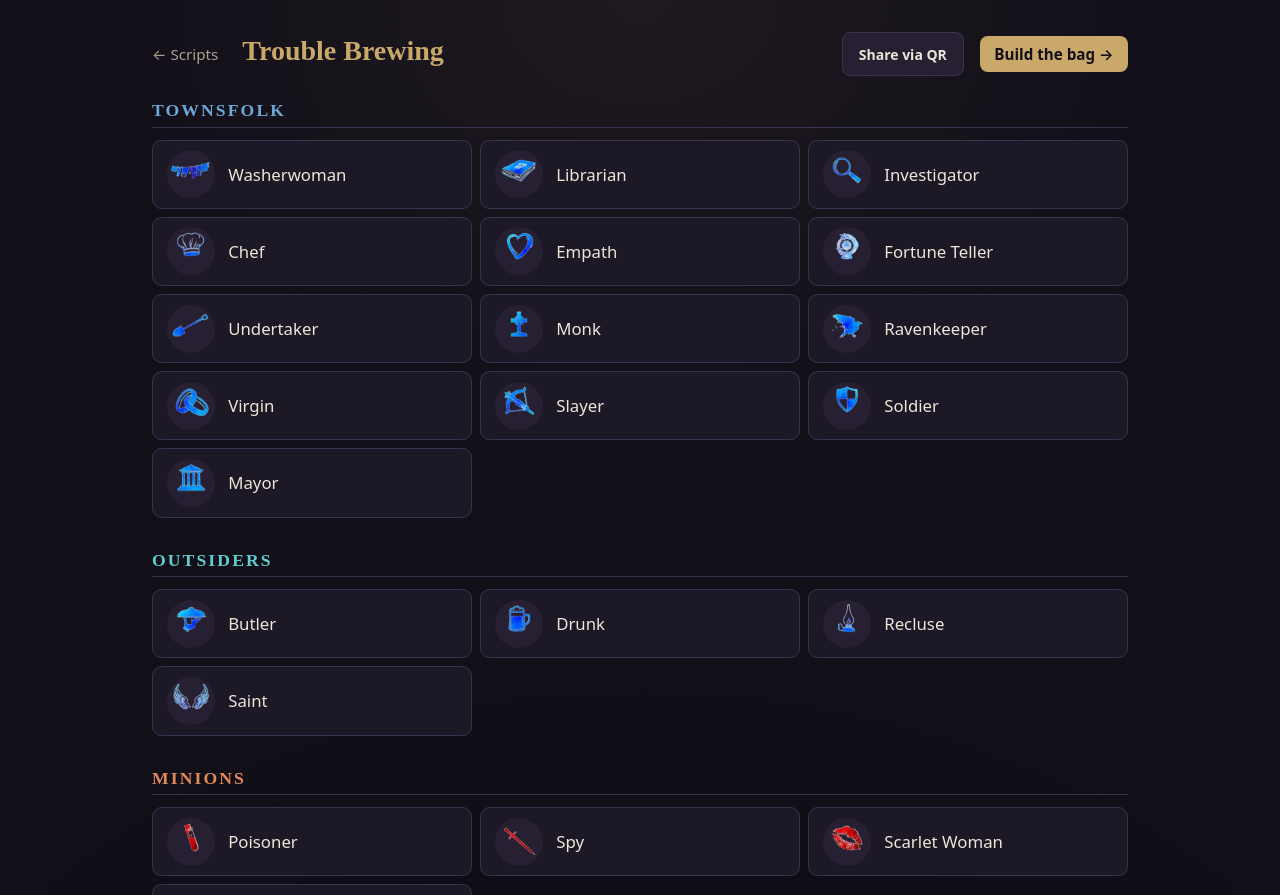
Test case: script sheet › reveals ability text and the official wiki link when a character is tapped
This screenshot has width=1280, height=895.
Click the heading "Fortune Teller" at (908, 251), box [823, 227, 993, 275]
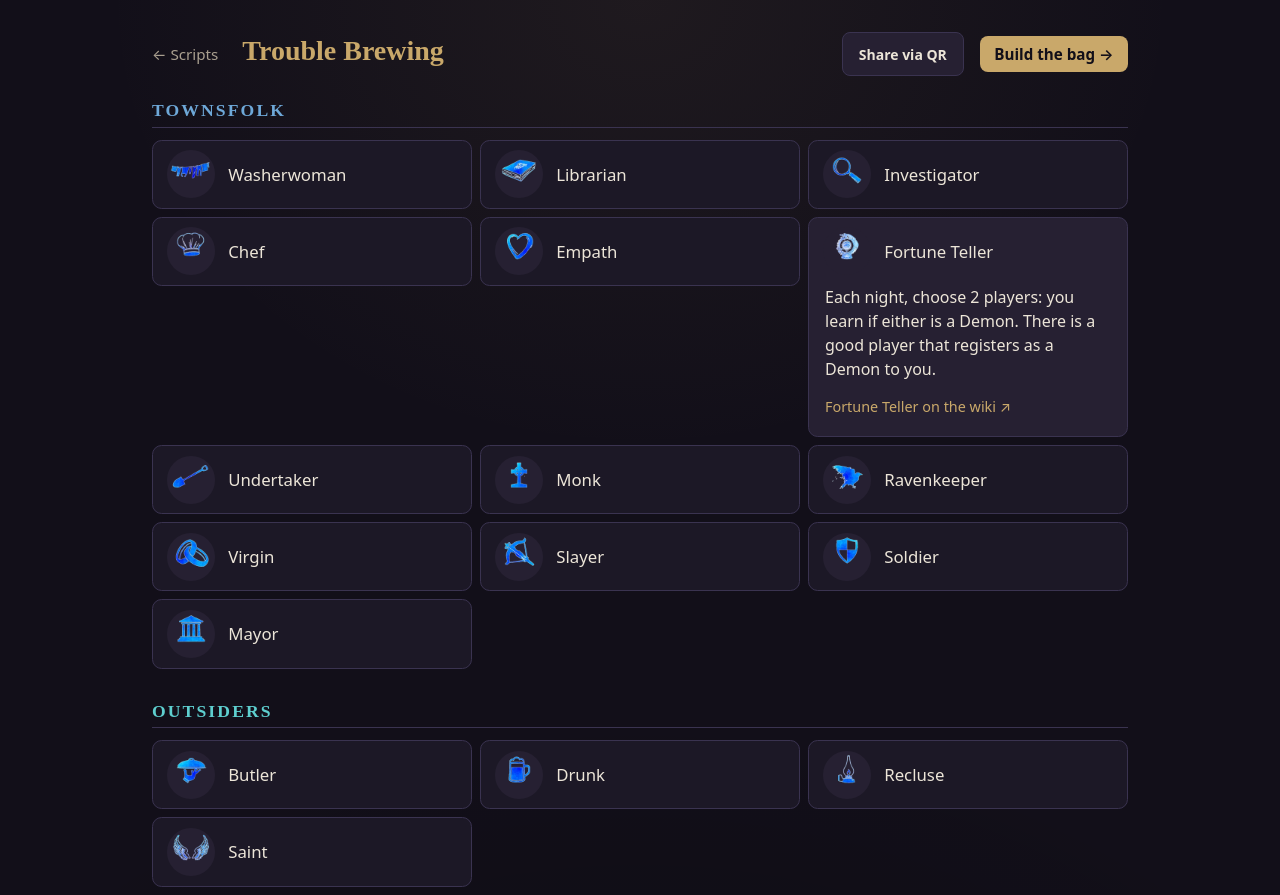
Result: the text "Each night, choose 2 players: you learn if either is a Demon" is shown at [825, 286, 1095, 380]
